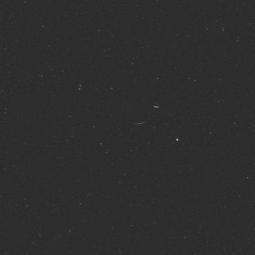proba_3_ocs: (114, 85, 178, 133)
